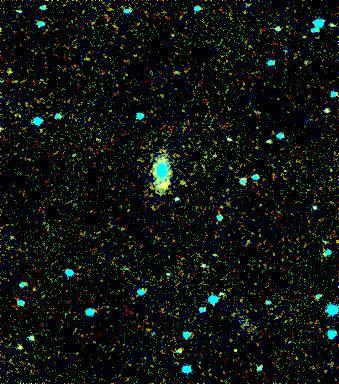star: (151, 169, 181, 199)
